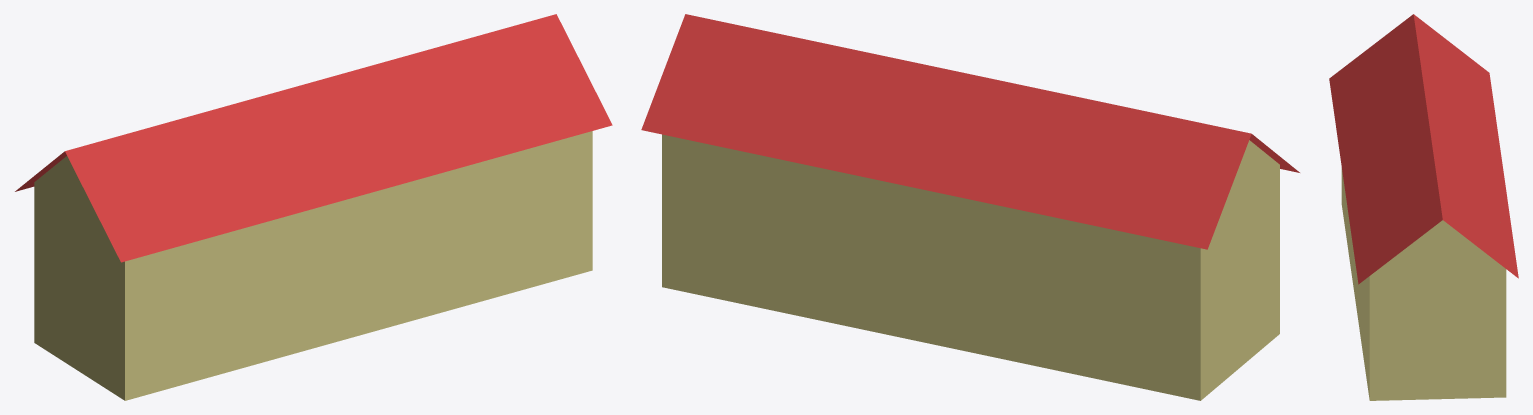
3 renders of one model, left to right at view 1: azimuth 30°, elevation 25°; view 2: azimuth 150°, elevation 25°; view 3: azimuth 270°, elevation 25°, orthographic. The views are drawn at different scales.
Bounding box in the file's own units: 31.24 × 11.92 × 12.77.
